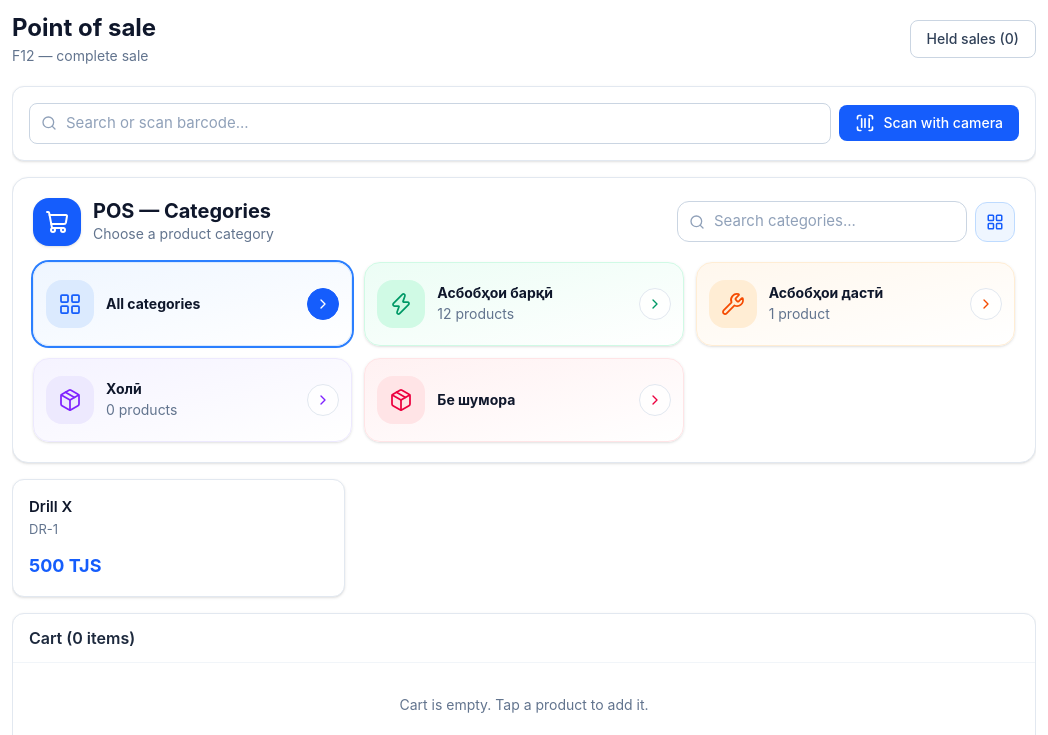
it: POS category cards › category search narrows the cards and reports no match
Expected: the text "Асбобҳои барқӣ" is shown, 437,284 -> 553,301
Type "дастӣ" into the search field with placeholder "Search categories..." at [822, 222], box 677,201 -> 967,242
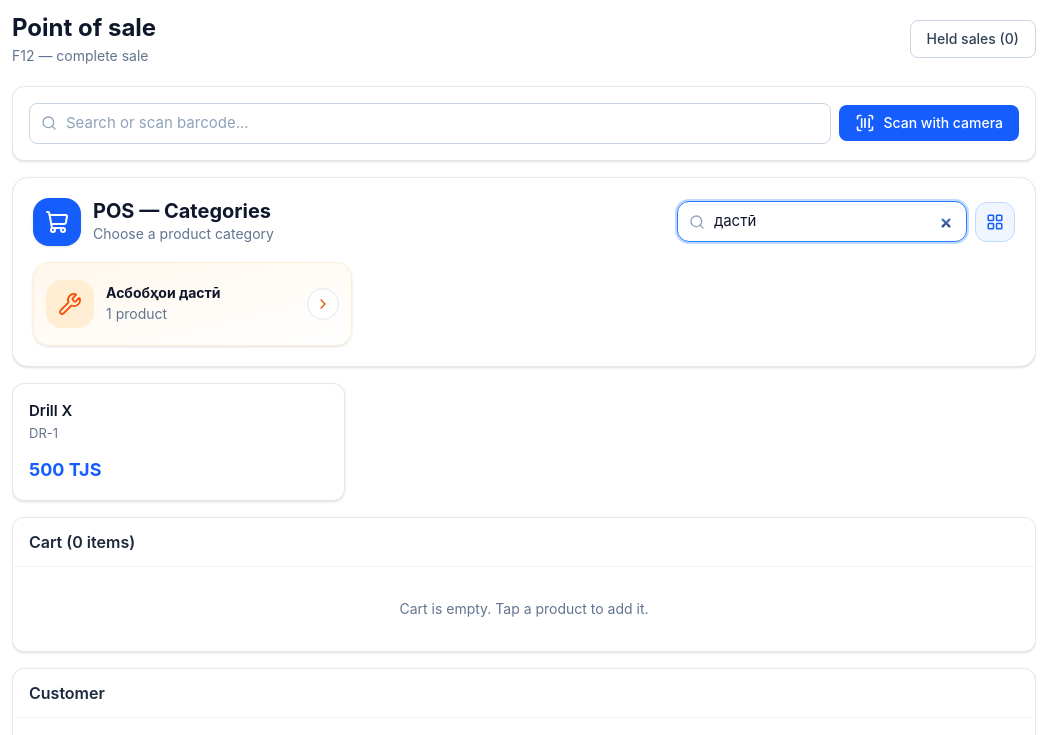
Expected: the number of buttons with test id "pos-category-card" is 1, 33,262 -> 352,346
Replace the text in the search field with placeholder "Search categories..." with "zzzz" at [822, 222], box 677,201 -> 967,242
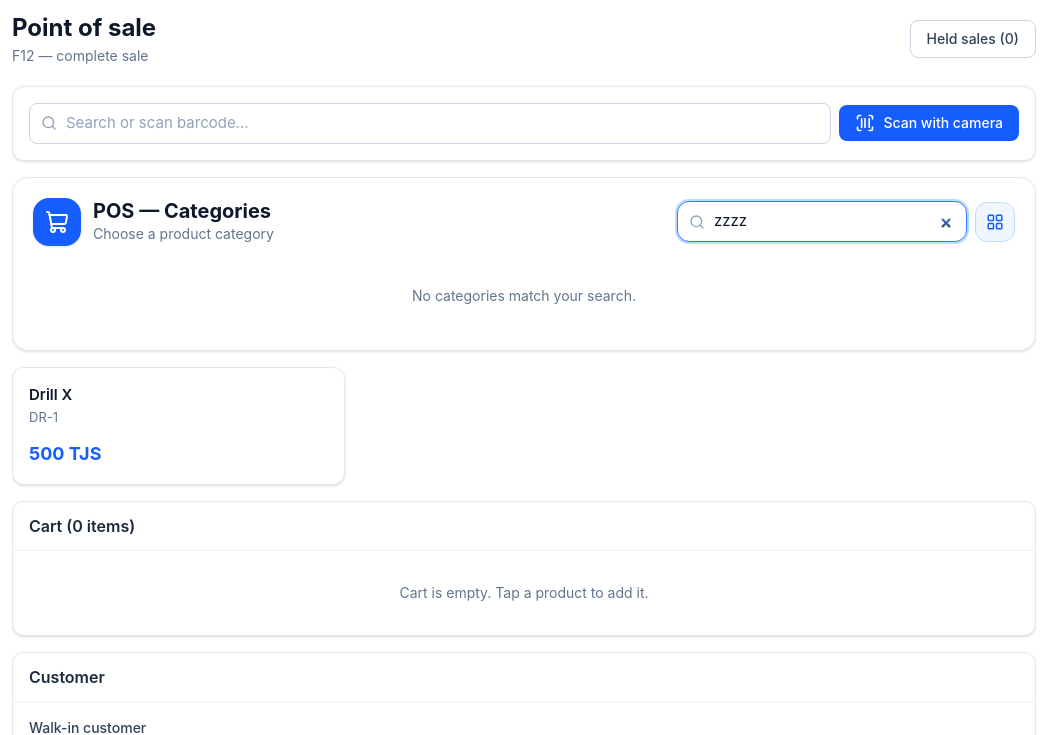
Expected: the text "No categories match your search." is shown, 412,286 -> 636,304
